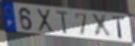6: (18, 7, 33, 32)
7: (75, 12, 89, 37)
T: (55, 10, 70, 35), (111, 16, 126, 41)
X: (90, 13, 113, 39), (35, 8, 55, 35)
